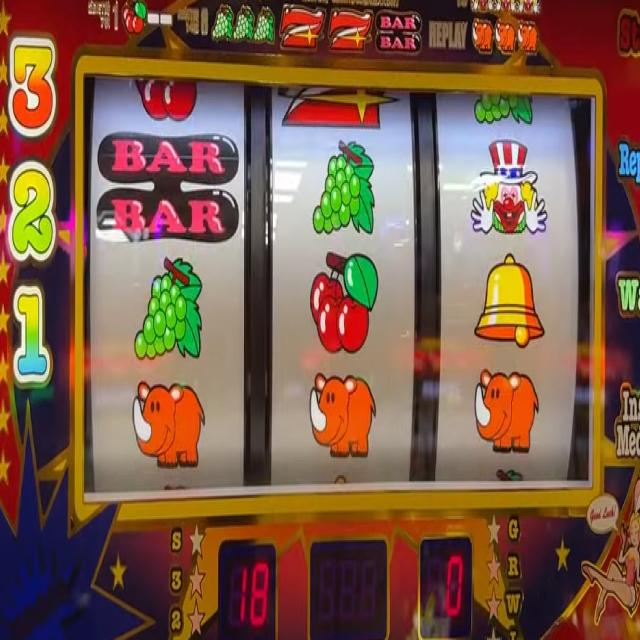bar: (97, 130, 240, 243), (375, 11, 421, 57)
bell: (474, 252, 545, 350)
cherry: (308, 248, 378, 356), (133, 76, 200, 121), (121, 0, 146, 33)
clown: (472, 138, 548, 239)
display: (82, 67, 593, 500)
elephant: (133, 375, 206, 470), (309, 371, 376, 460), (475, 371, 541, 454), (470, 18, 494, 56), (516, 21, 539, 55), (495, 18, 516, 54)
grape: (133, 255, 203, 363), (312, 137, 375, 237), (474, 88, 535, 128), (253, 0, 275, 50), (210, 5, 233, 44), (233, 6, 252, 46)
z: (277, 85, 400, 132), (330, 8, 374, 55), (281, 4, 324, 51)
